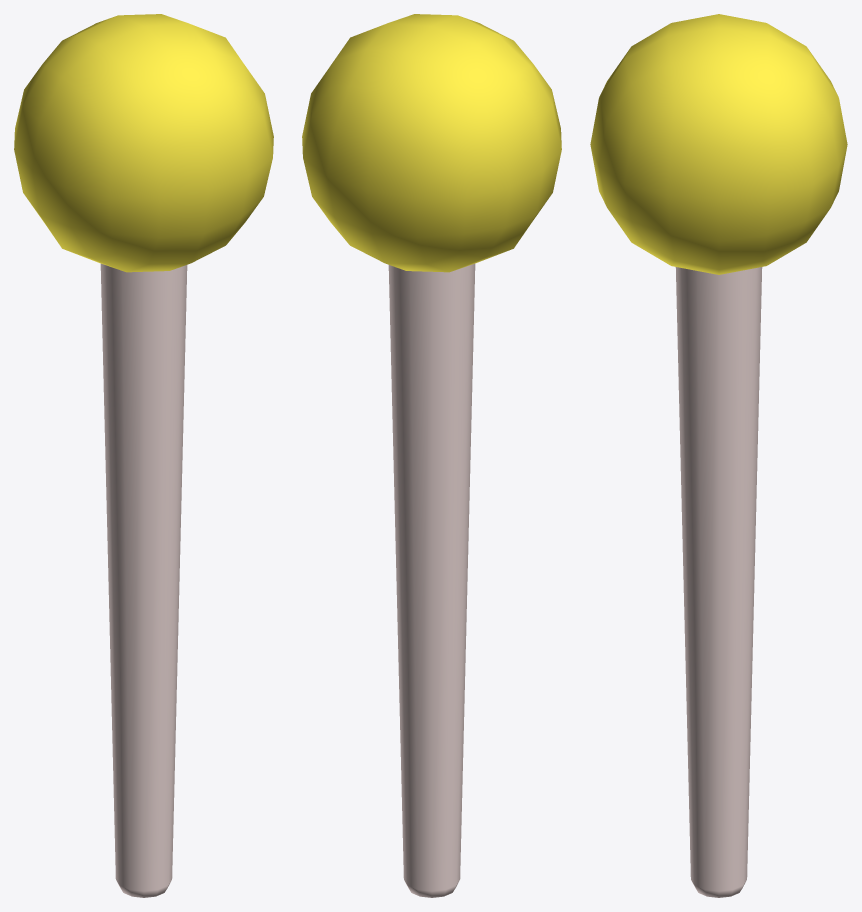
Rendered from Public_19_Needle_3.glb.
3 renders of one model, left to right at view 1: azimuth 30°, elevation 25°; view 2: azimuth 150°, elevation 25°; view 3: azimuth 270°, elevation 25°, orthographic.
Parts seen in each view (by area): view 1: Public_19_Needle_3; view 2: Public_19_Needle_3; view 3: Public_19_Needle_3.
Part boxes in pixels (x1,y1,x2,y2): Public_19_Needle_3: (14, 14, 273, 897); Public_19_Needle_3: (302, 14, 561, 897); Public_19_Needle_3: (590, 14, 847, 897).
Bounding box in the file's own units: 0.1604 × 0.5941 × 0.1604.
Materials: 1 (1 with a texture image).
